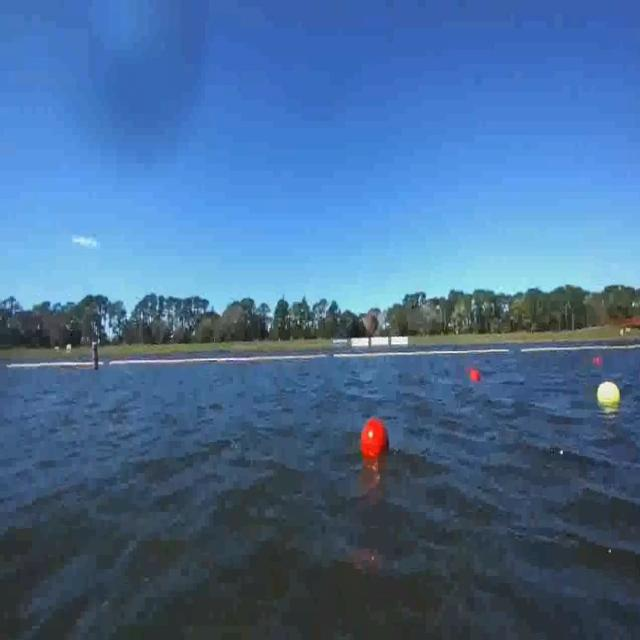red-buoy: (362, 419, 389, 461), (469, 368, 480, 382), (592, 358, 600, 366)
yellow-buoy: (598, 380, 622, 404)
